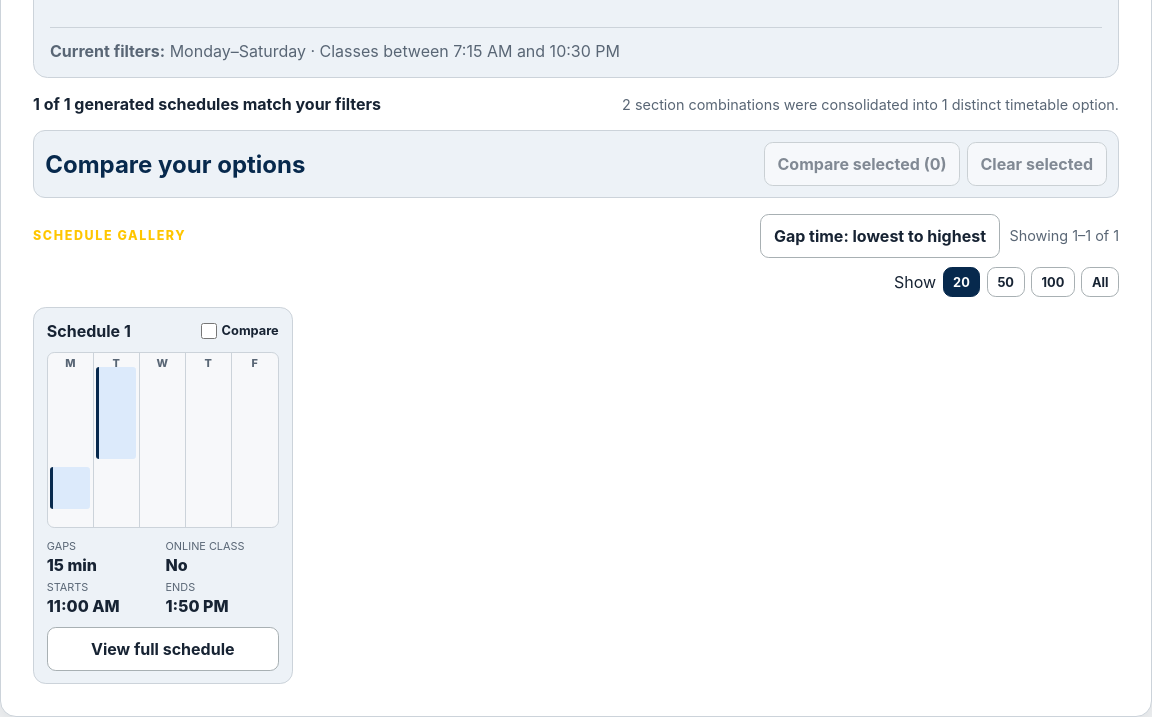
ScheduleResults › shows equivalent same-time sections as one timetable option with both section choices
(page scrolled)
expect the text "1 of 1 generated schedules match your filters" is shown: met, box [33,94,381,114]
expect the text "2 section combinations were consolidated into 1 distinct timetable option." is shown: met, box [622,96,1119,113]
Click the button "View full schedule".
click(163, 649)  # box [47,627,279,671]
(page scrolled)
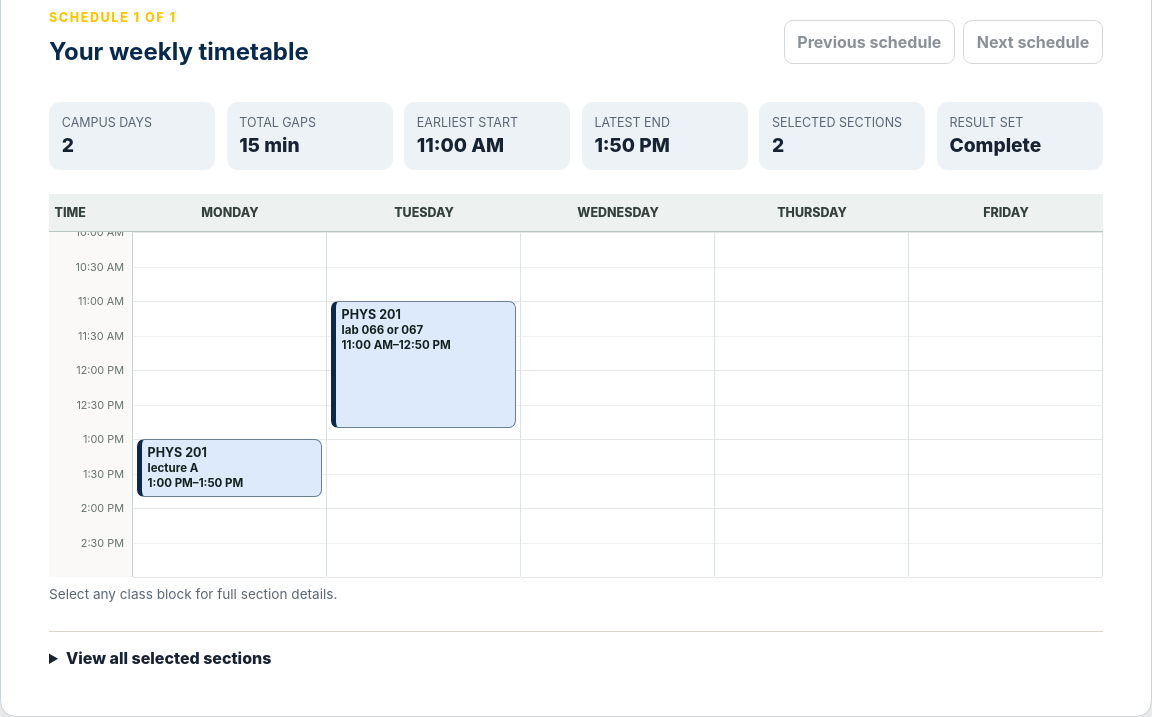
expect the button with aria-label "PHYS 201, lab section 066 or 067" shows "lab 066 or 067": met
Click the button with aria-label "PHYS 201, lab section 066 or 067".
click(424, 364)  # box [330,301,516,428]
(page scrolled)
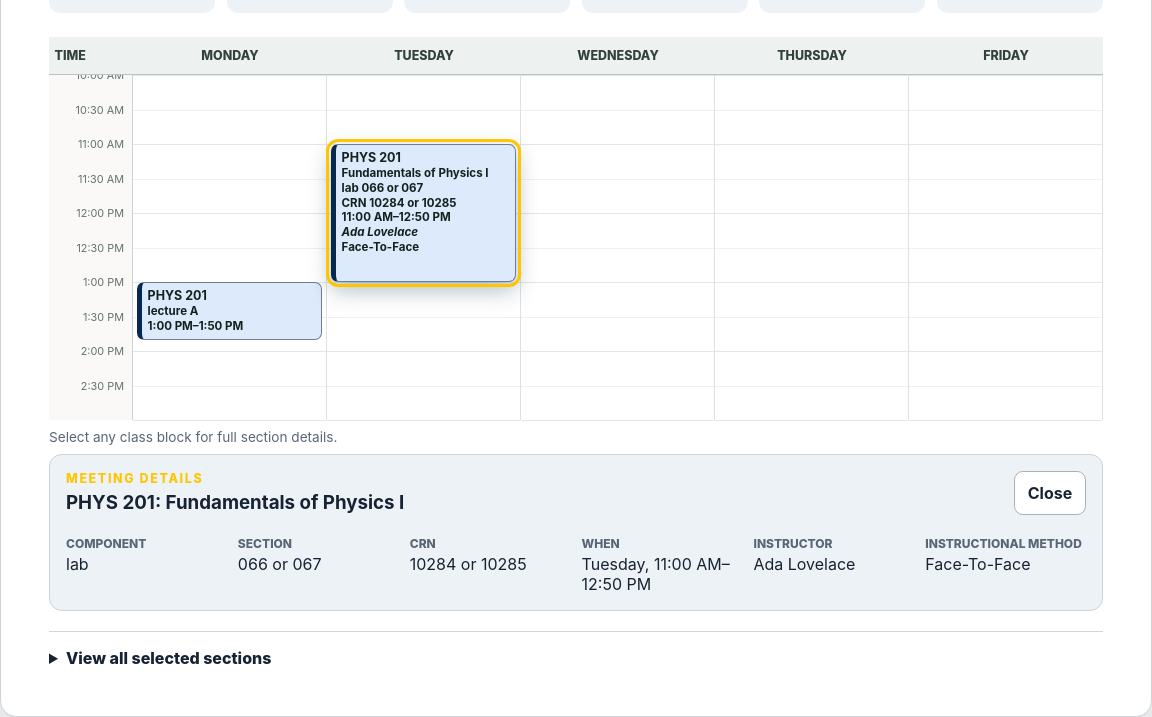
expect the text "066 or 067" is shown: met, box [238,554,322,574]
expect the text "10284 or 10285" is shown: met, box [410,554,527,574]
